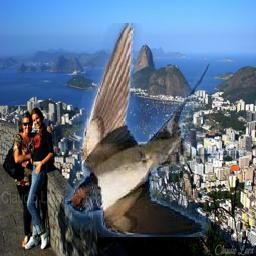Swallow: (66, 23, 253, 237)
